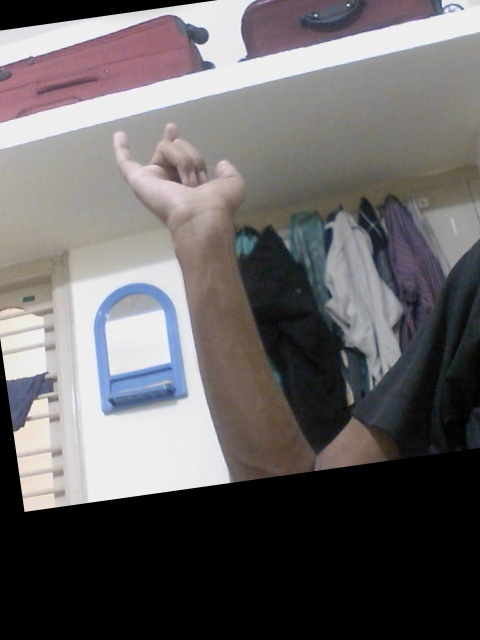hand: (110, 119, 250, 230)
